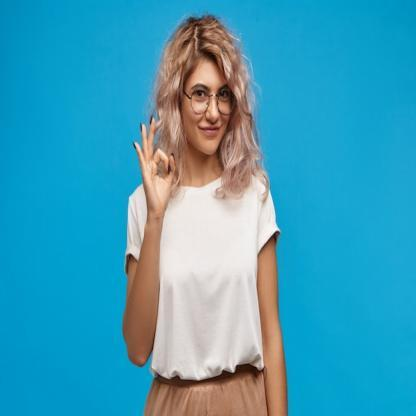ok: (131, 112, 178, 216)
